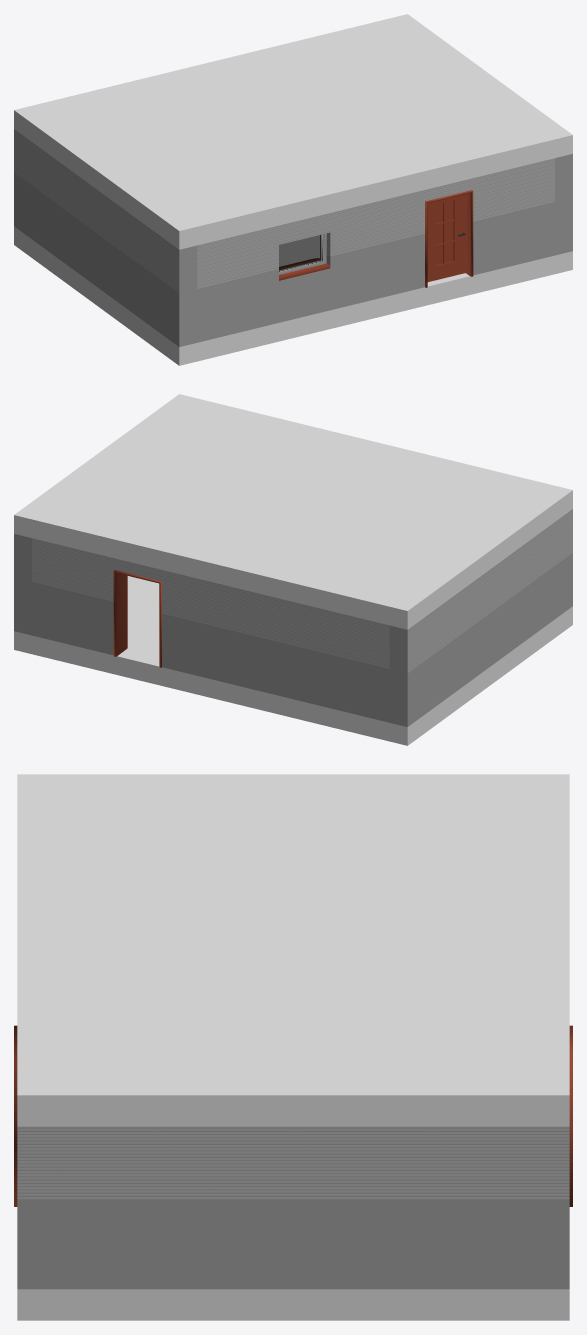
The model's file is Küche.fbx_W_nde_001.fbx.
3 renders of one model, top to bottom at view 1: azimuth 30°, elevation 25°; view 2: azimuth 150°, elevation 25°; view 3: azimuth 270°, elevation 25°, orthographic. The views are drawn at different scales.
Visible parts, largest first — view 1: Decke.001, Cube, Wand normal.002, Wand normal.003, Wand normal, Wand normal.012, WandFenster, Wand normal.013, Wand normal.014, Wand normal.015, Tür.001, Wand Durchgang (+3 smaller); view 2: Decke.001, Cube, Wand normal.009, Wand normal.010, Wand normal.011, Wand normal.008, Wand normal.015, Wand normal.014, Wand normal.012, Wand normal.013, Wand Durchgang.002, Wand normal.007 (+1 smaller); view 3: Decke.001, Wand normal.006, Wand normal.004, Wand normal.005, Wand normal.007, Cube, Durchgang.001, Durchgang.002.
Part boxes in pixels (<box>): Decke.001: <box>14,14,572,249</box>; Cube: <box>14,226,572,365</box>; Wand normal.002: <box>340,193,411,307</box>; Wand normal.003: <box>197,228,268,342</box>; Wand normal: <box>483,158,554,272</box>; Wand normal.012: <box>138,220,197,346</box>; WandFenster: <box>268,210,340,325</box>; Wand normal.013: <box>96,189,137,316</box>; Wand normal.014: <box>55,159,96,286</box>; Wand normal.015: <box>14,129,55,255</box>; Tür.001: <box>427,194,465,281</box>; Wand Durchgang: <box>412,175,483,290</box>; Decke.001: <box>14,394,572,629</box>; Cube: <box>14,576,572,745</box>; Wand normal.009: <box>246,590,318,705</box>; Wand normal.010: <box>175,573,246,687</box>; Wand normal.011: <box>318,608,389,722</box>; Wand normal.008: <box>32,538,103,652</box>; Wand normal.015: <box>389,600,448,726</box>; Wand normal.014: <box>449,569,490,696</box>; Wand normal.012: <box>531,509,572,635</box>; Wand normal.013: <box>490,539,531,666</box>; Wand Durchgang.002: <box>103,555,174,670</box>; Wand normal.007: <box>14,534,31,635</box>; Decke.001: <box>17,774,569,1126</box>; Wand normal.006: <box>293,1126,431,1289</box>; Wand normal.004: <box>17,1126,155,1289</box>; Wand normal.005: <box>155,1126,293,1289</box>; Wand normal.007: <box>431,1126,569,1289</box>; Cube: <box>17,1289,569,1320</box>; Durchgang.001: <box>569,1025,572,1206</box>; Durchgang.002: <box>14,1025,17,1206</box>.
Bounding box in the file's own units: 1100 × 360 × 810.
